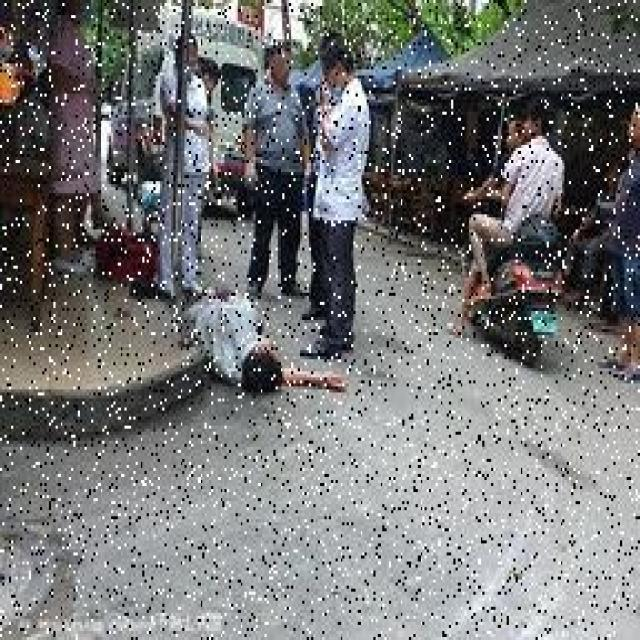fall: (198, 284, 354, 392)
